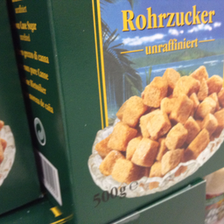sugar: (11, 1, 224, 220)
